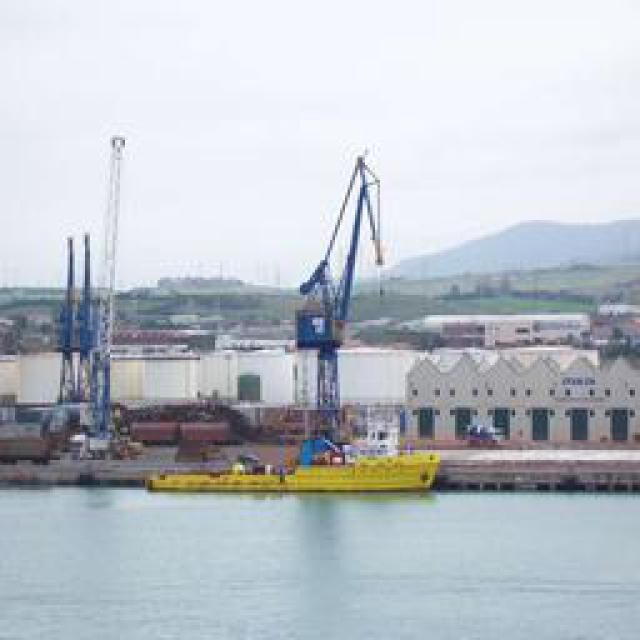Ship: (149, 446, 442, 496)
